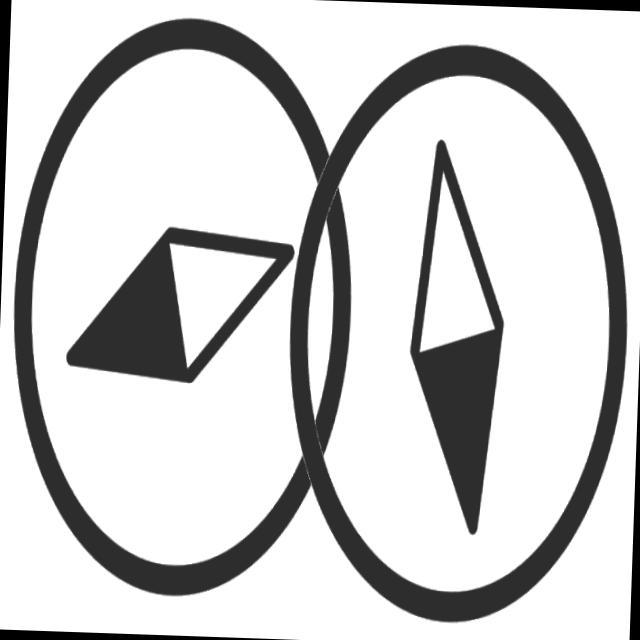compass: (266, 29, 640, 640), (1, 3, 375, 613)
